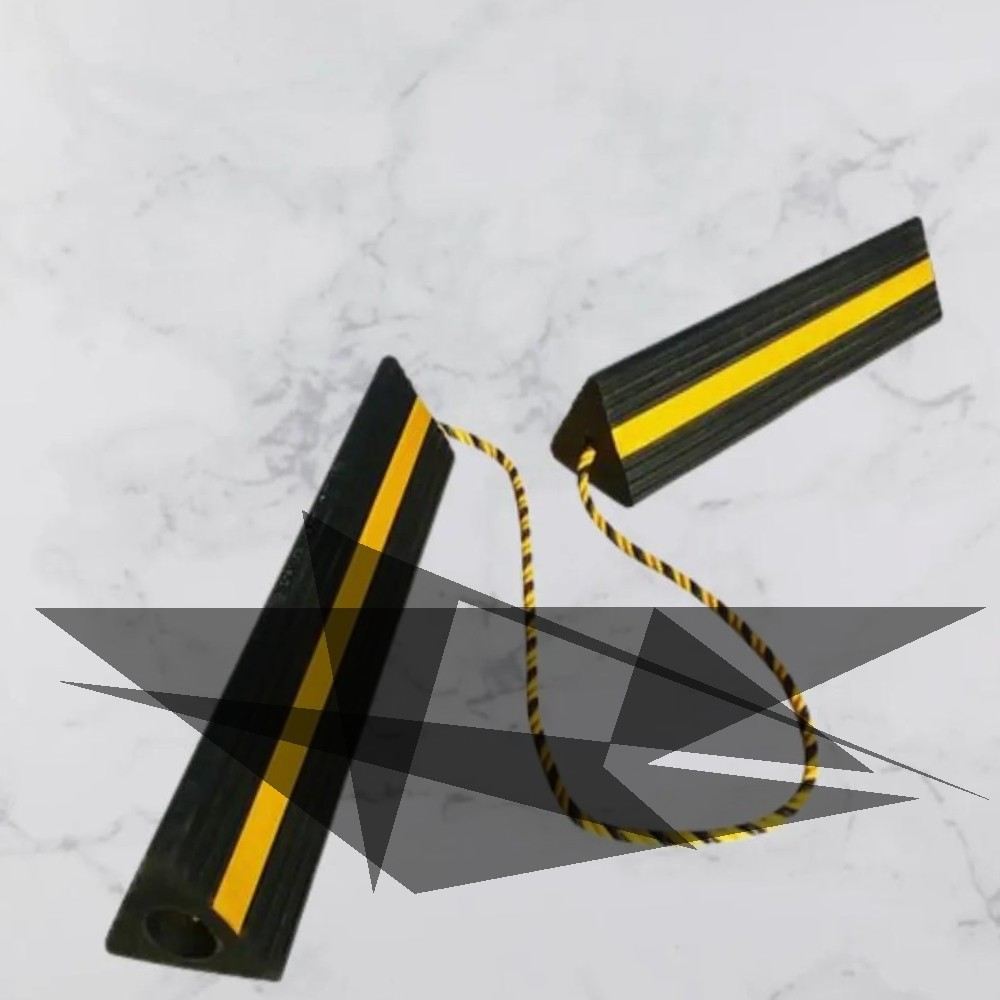chock: (65, 342, 482, 1000), (539, 209, 954, 512)
